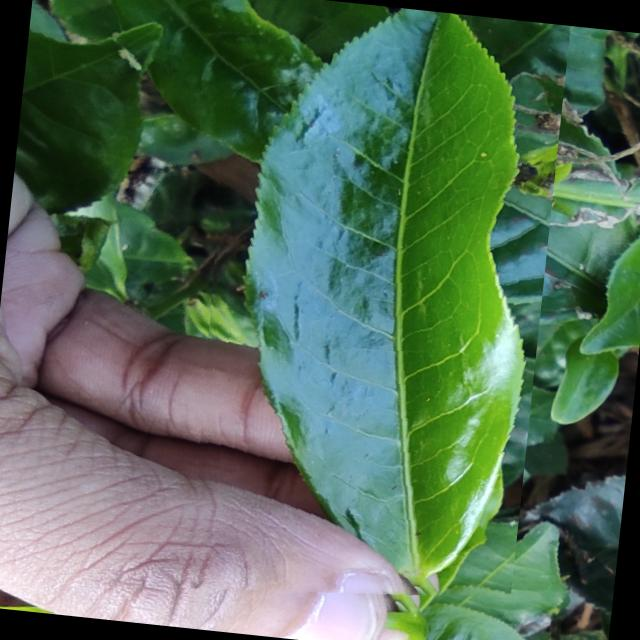Category C 4-7 days: (172, 0, 571, 620)
